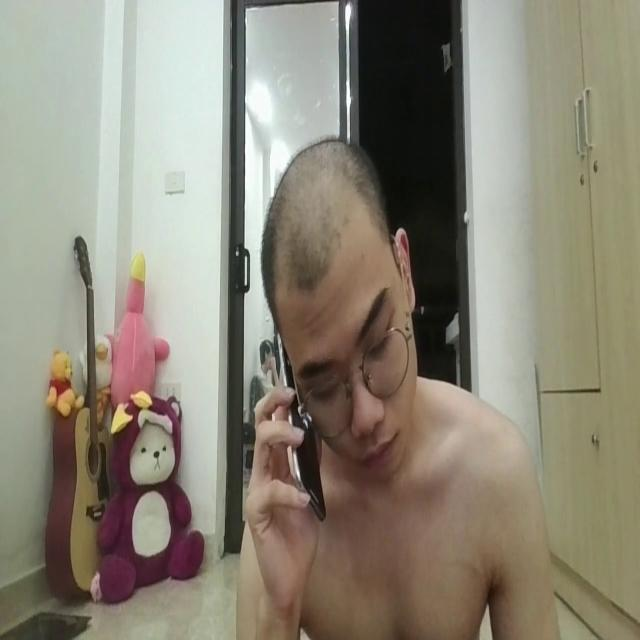phone: (254, 329, 332, 537)
student: (227, 114, 569, 640)
